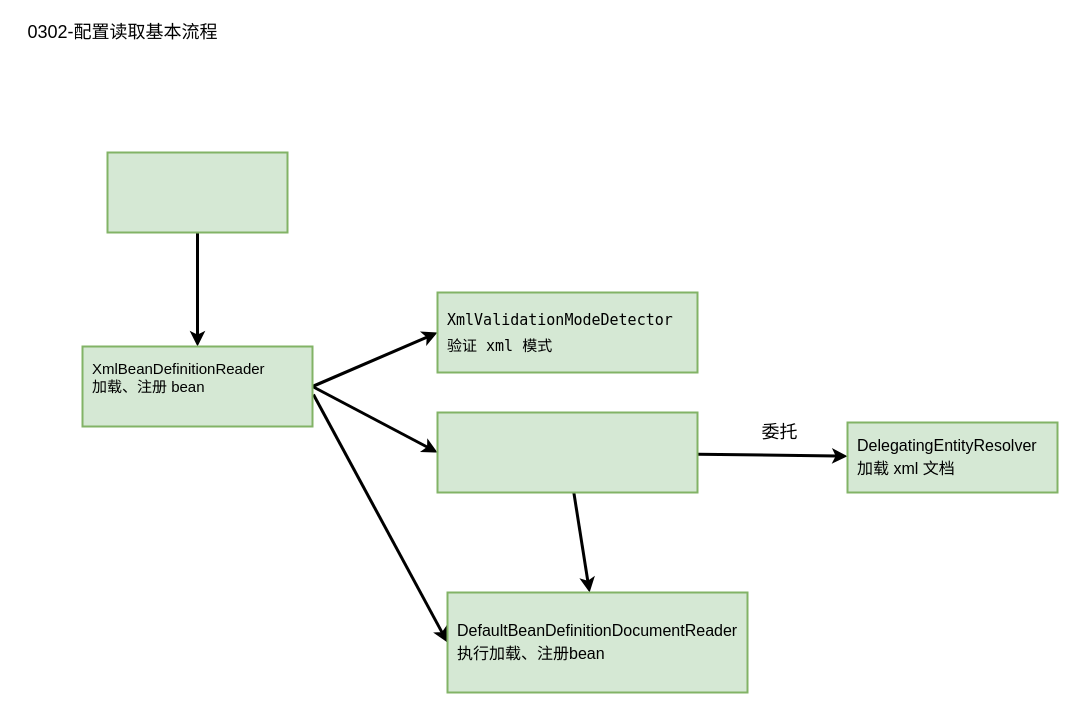
Image size: 1075x710. Some labels were removed from this diagram. Each missing label, with the centre of its shape:
"BeanFactory 整个构造器体系， 配置需要忽略的接口" goes at (x=197, y=192).
"DefaultDocumentLoader 加载 xml 文档" goes at (x=567, y=452).
